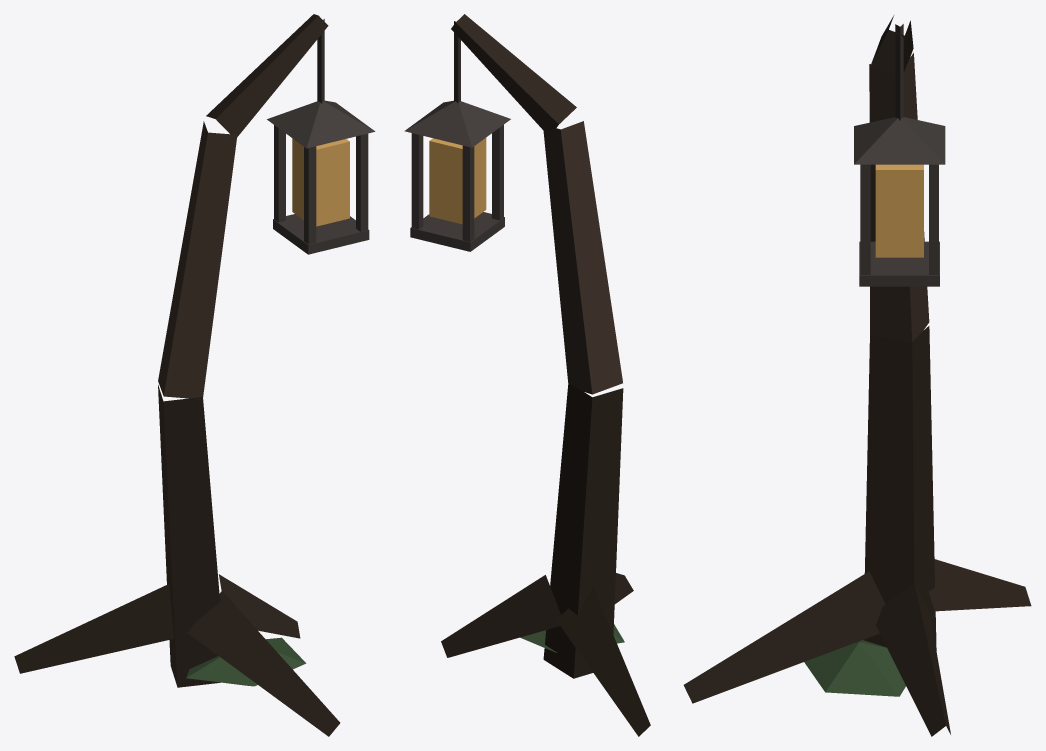
Rendered from wisp_lantern.glb.
3 renders of one model, left to right at view 1: azimuth 30°, elevation 25°; view 2: azimuth 150°, elevation 25°; view 3: azimuth 270°, elevation 25°, orthographic. The views are drawn at different scales.
Visible parts, largest first — view 1: wisp_lantern, Light_glow; view 2: wisp_lantern, Light_glow; view 3: wisp_lantern, Light_glow.
Boxes of the visible parts, box(x1,y1,x2,y2) form: wisp_lantern: box(14, 14, 375, 736); Light_glow: box(292, 138, 349, 226); wisp_lantern: box(404, 14, 650, 736); Light_glow: box(429, 138, 486, 224); wisp_lantern: box(683, 15, 1031, 736); Light_glow: box(875, 164, 923, 257).
Bounding box in the file's own units: 0.9364 × 1.99 × 0.8636.
